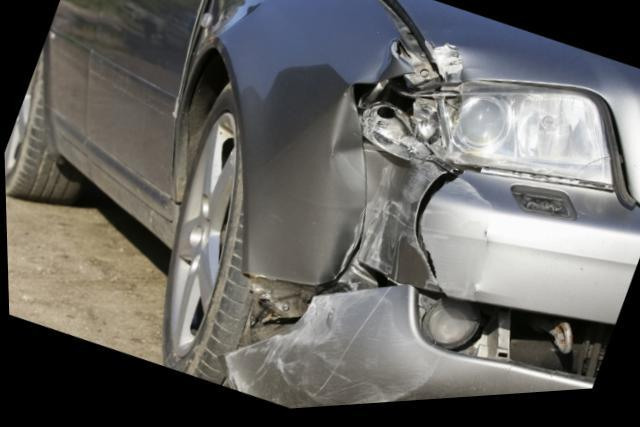crack: (412, 174, 464, 302)
dent: (325, 91, 364, 283), (363, 50, 397, 87)
dislocated part: (217, 265, 443, 412)
lamp broken: (390, 85, 614, 201)
scratch: (222, 292, 438, 410), (354, 162, 442, 287), (420, 183, 492, 308), (333, 210, 364, 282), (422, 44, 468, 85)
